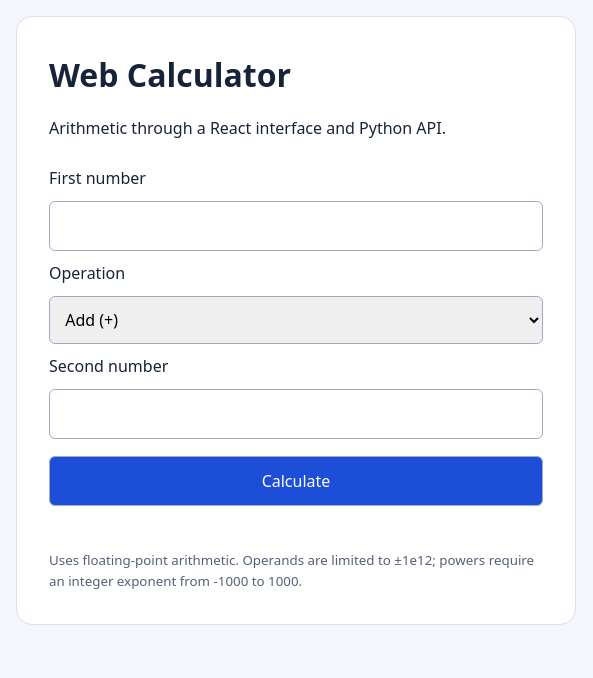
Scenario: submits decimal inputs and renders the API result
Type "1.5" into the number field labelled "First number".
click(296, 226); type("1.5")  # box x1=49 y1=201 x2=543 y2=251
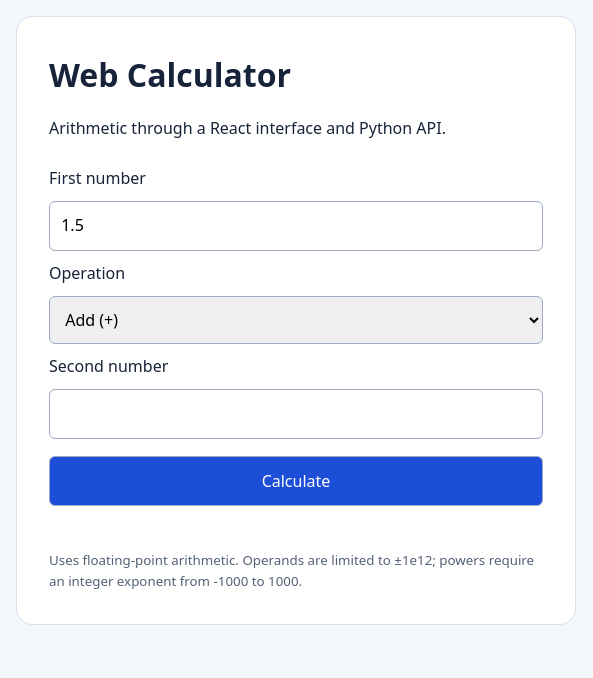
Type "2.25" into the number field labelled "Second number".
click(296, 414); type("2.25")  # box x1=49 y1=389 x2=543 y2=439
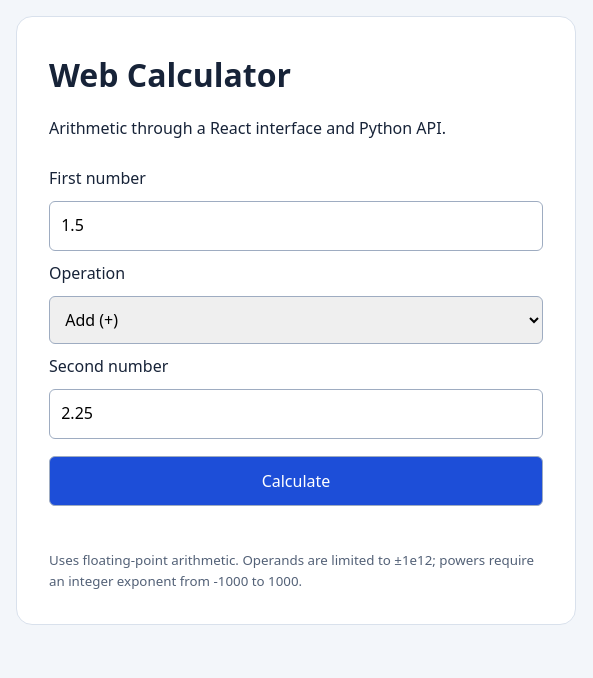
Click the button "Calculate".
click(296, 481)  # box x1=49 y1=456 x2=543 y2=506
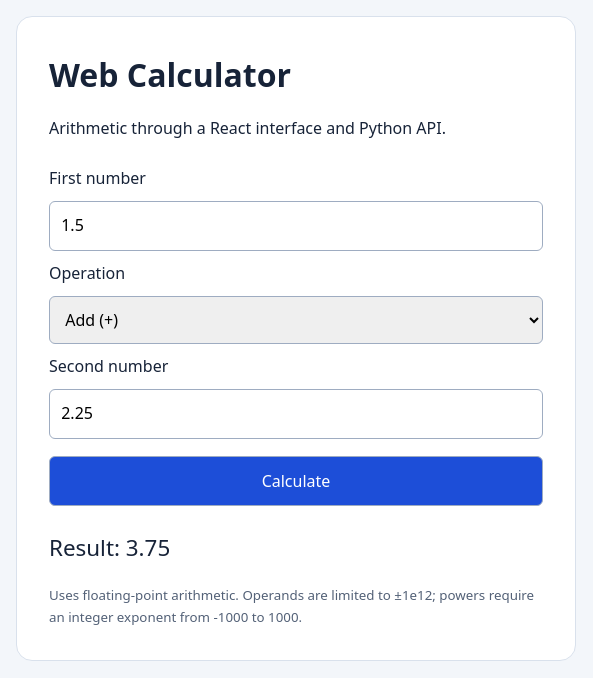
Expected: the text "Result: 3.75" is shown, x1=49 y1=532 x2=170 y2=563
